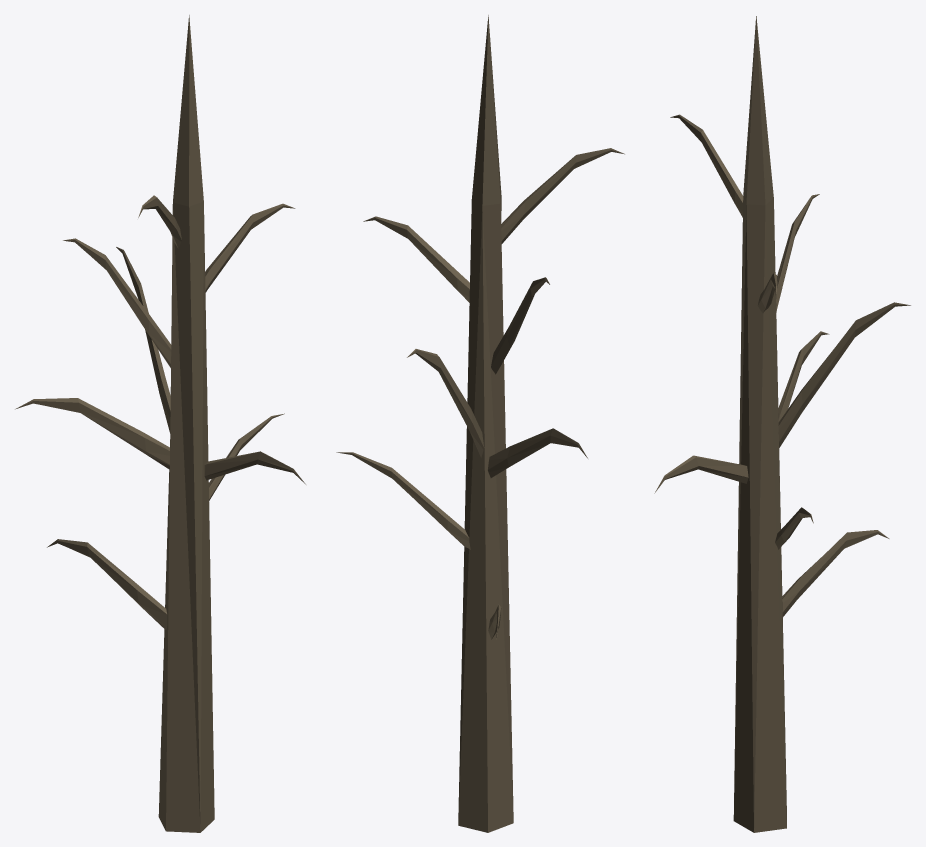
File: Blue_Spruce_6_1.fbx
3 renders of one model, left to right at view 1: azimuth 30°, elevation 25°; view 2: azimuth 150°, elevation 25°; view 3: azimuth 270°, elevation 25°, orthographic.
Parts seen in each view (by area): view 1: Spurce_6_1; view 2: Spurce_6_1; view 3: Spurce_6_1.
Part boxes in pixels (<box>): Spurce_6_1: <box>15,15,305,832</box>; Spurce_6_1: <box>336,15,624,832</box>; Spurce_6_1: <box>654,16,910,832</box>.
Bounding box in the file's own units: 206 × 604 × 175.
